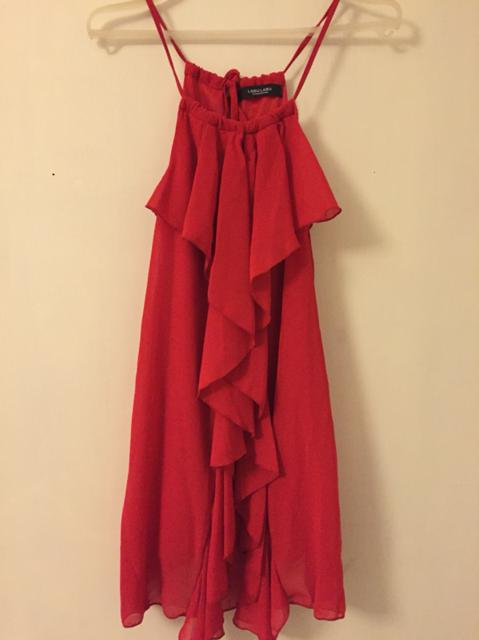Dresses: (122, 1, 348, 640)
